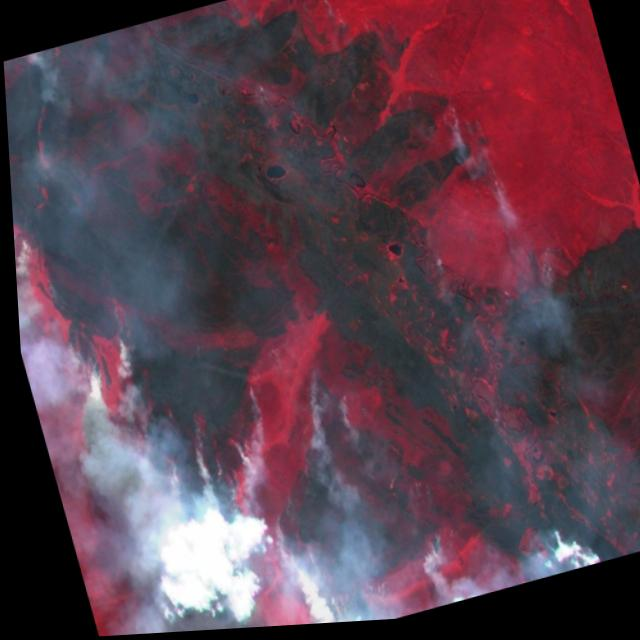fire: (0, 0, 454, 640)
